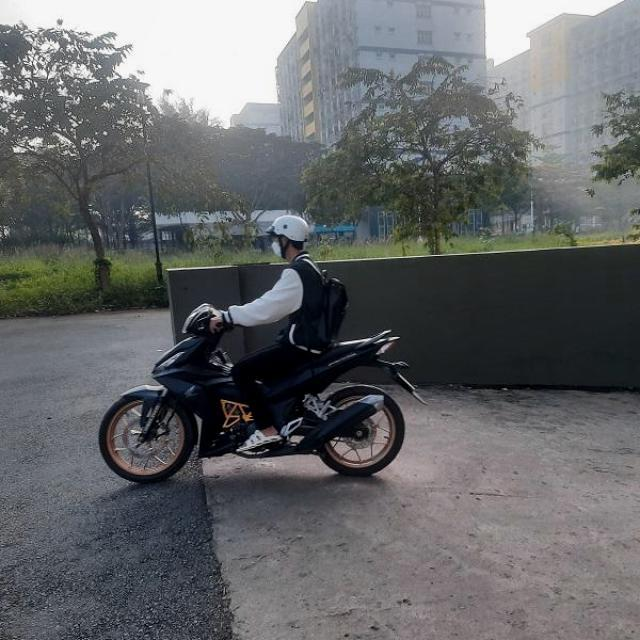Helmet: (266, 211, 312, 260)
